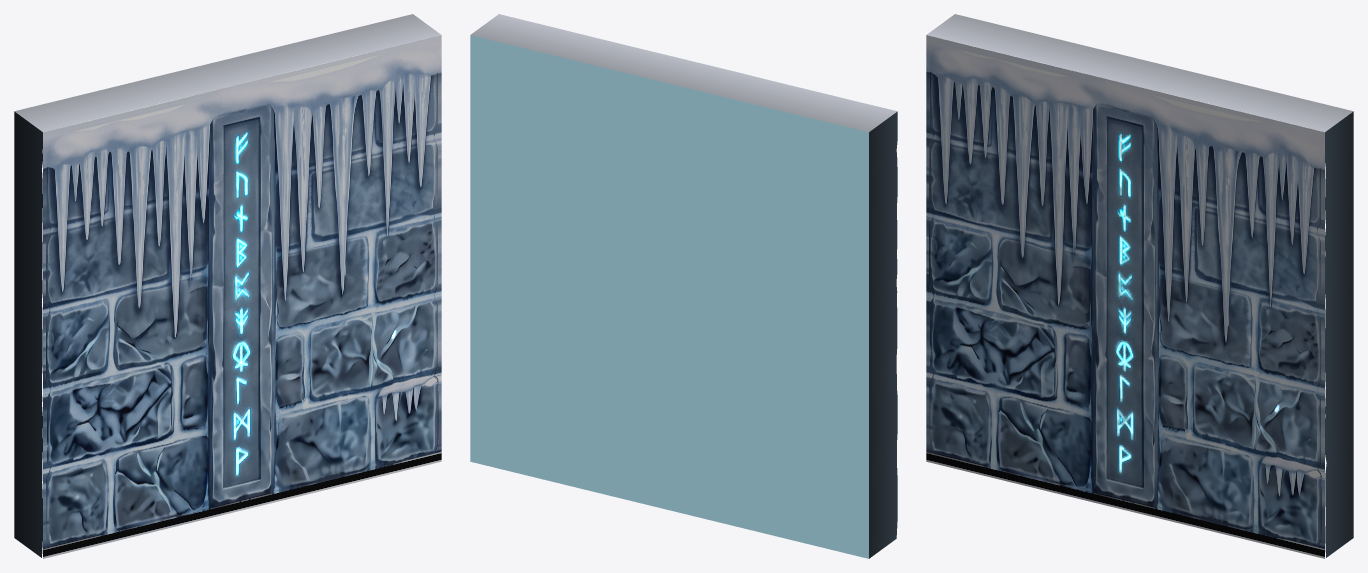
Rendered from wall_pillar.glb.
The picture shows the model from 3 angles, left to right: view 1: azimuth 30°, elevation 25°; view 2: azimuth 150°, elevation 25°; view 3: azimuth 330°, elevation 25°; orthographic projection.
Visible parts, largest first — view 1: wall_pillar; view 2: wall_pillar; view 3: wall_pillar.
Part boxes in pixels (x1=…): wall_pillar: x1=14, y1=14, x2=441, y2=558; wall_pillar: x1=470, y1=14, x2=897, y2=558; wall_pillar: x1=926, y1=14, x2=1353, y2=558.
Size of the model in its own units: 2 by 2.05 by 0.25.
1 material, 1 textured.
